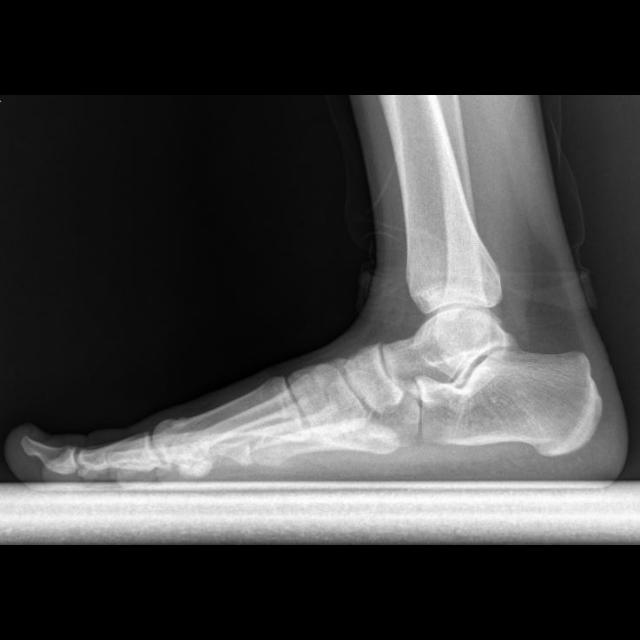a: (415, 346, 602, 458)
b: (346, 341, 404, 416)
c: (155, 375, 311, 462)
